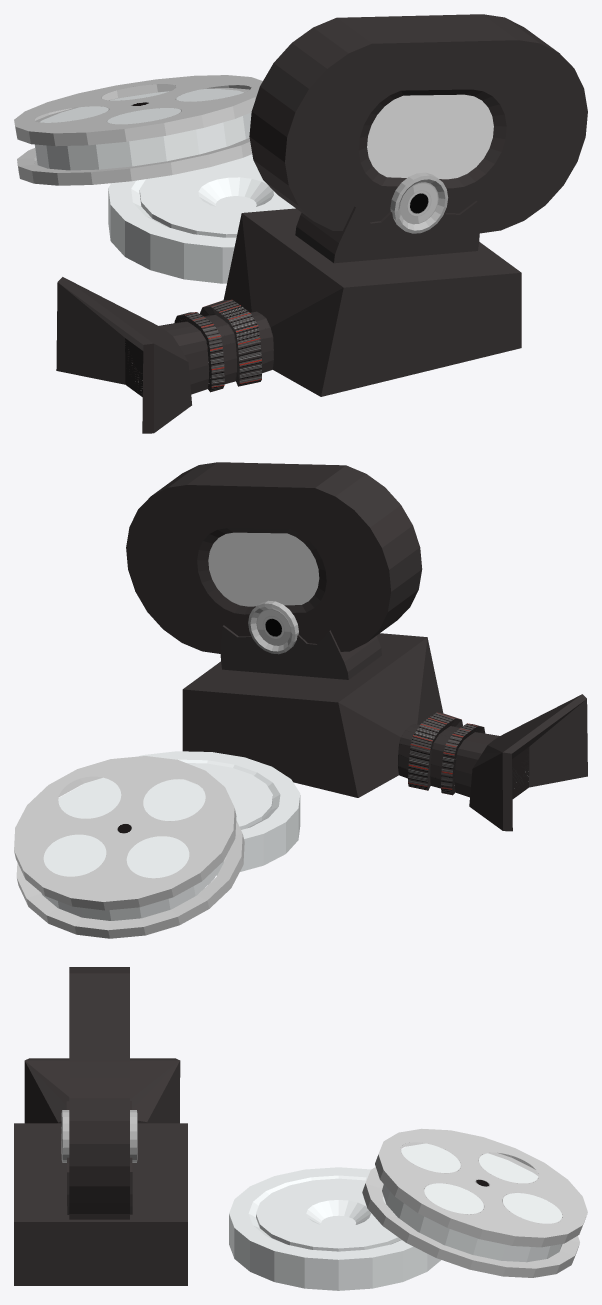
File: cinema.fbx
The picture shows the model from 3 angles, top to bottom: view 1: azimuth 30°, elevation 25°; view 2: azimuth 150°, elevation 25°; view 3: azimuth 270°, elevation 25°; orthographic projection. The views are drawn at different scales.
Visible parts, largest first — view 1: Cube, Cube.001, Cylinder.001, Cylinder.002, Cube.003, Cylinder.003, Cube.002, Cylinder; view 2: Cube, Cube.001, Cylinder.002, Cylinder.003, Cylinder.001, Cube.003, Cube.002, Cylinder; view 3: Cube, Cylinder.001, Cylinder.002, Cube.001, Cylinder.003, Cylinder.
Boxes of the visible parts, box(x1,y1,x2,y2) form: Cube: box(56, 208, 521, 433); Cube.001: box(249, 14, 587, 233); Cylinder.001: box(108, 154, 295, 283); Cylinder.002: box(14, 75, 262, 185); Cube.003: box(367, 94, 493, 179); Cylinder.003: box(34, 89, 251, 170); Cube.002: box(295, 201, 479, 263); Cylinder: box(390, 172, 448, 233); Cube: box(182, 633, 587, 831); Cube.001: box(126, 462, 422, 653); Cylinder.002: box(14, 756, 244, 938); Cylinder.003: box(41, 778, 222, 920); Cylinder.001: box(82, 751, 300, 875); Cube.003: box(208, 532, 319, 606); Cube.002: box(220, 625, 381, 679); Cylinder: box(248, 600, 298, 654); Cube: box(14, 1058, 187, 1285); Cylinder.001: box(229, 1167, 440, 1290); Cylinder.002: box(362, 1128, 587, 1277); Cube.001: box(69, 967, 129, 1219); Cylinder.003: box(382, 1143, 562, 1262); Cylinder: box(61, 1110, 137, 1162).
Size of the model in its own units: 2319 by 1518 by 2881.
